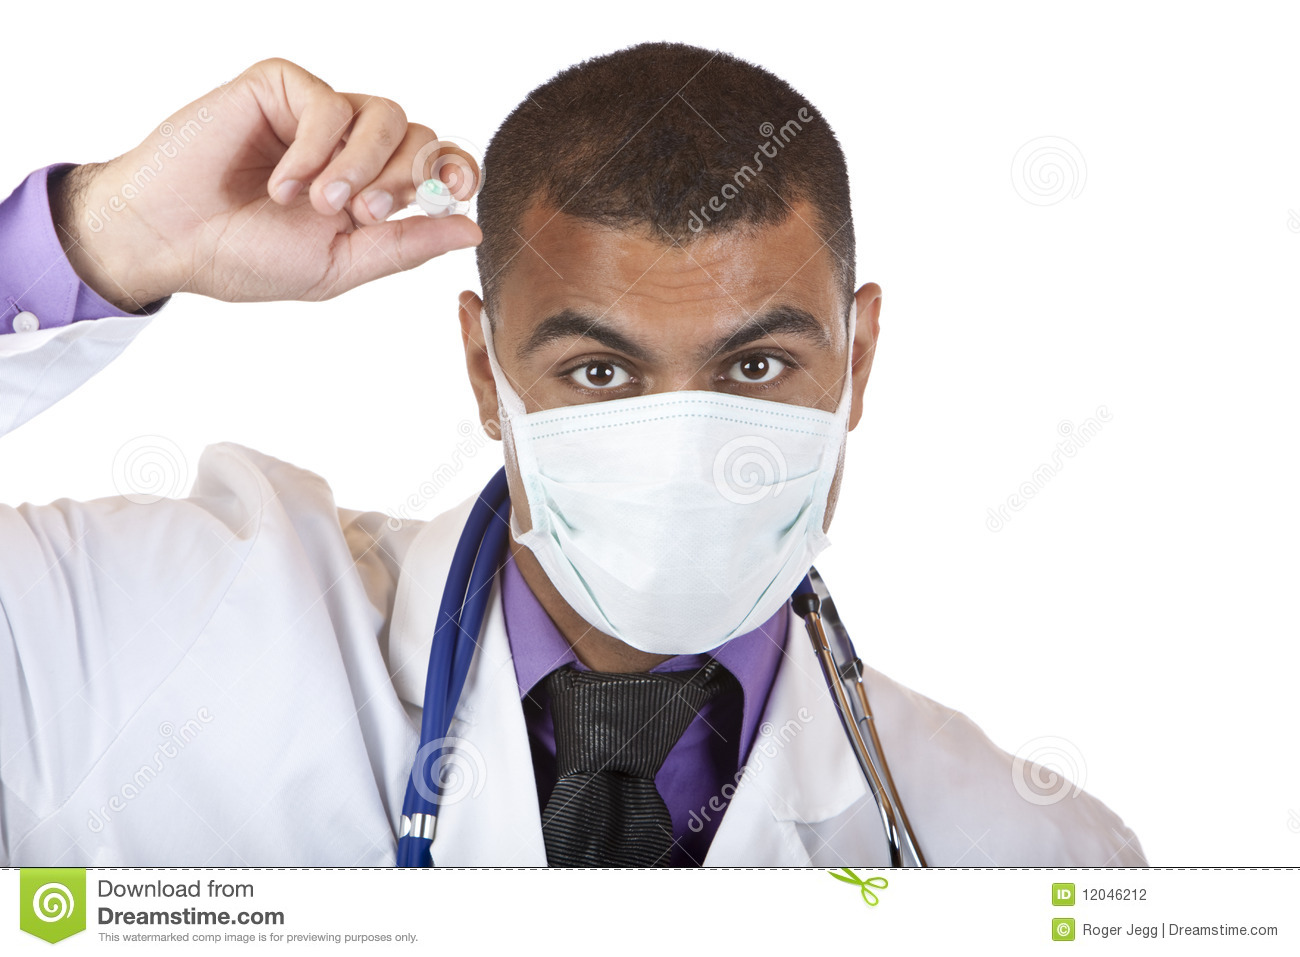mask: (513, 394, 843, 656)
